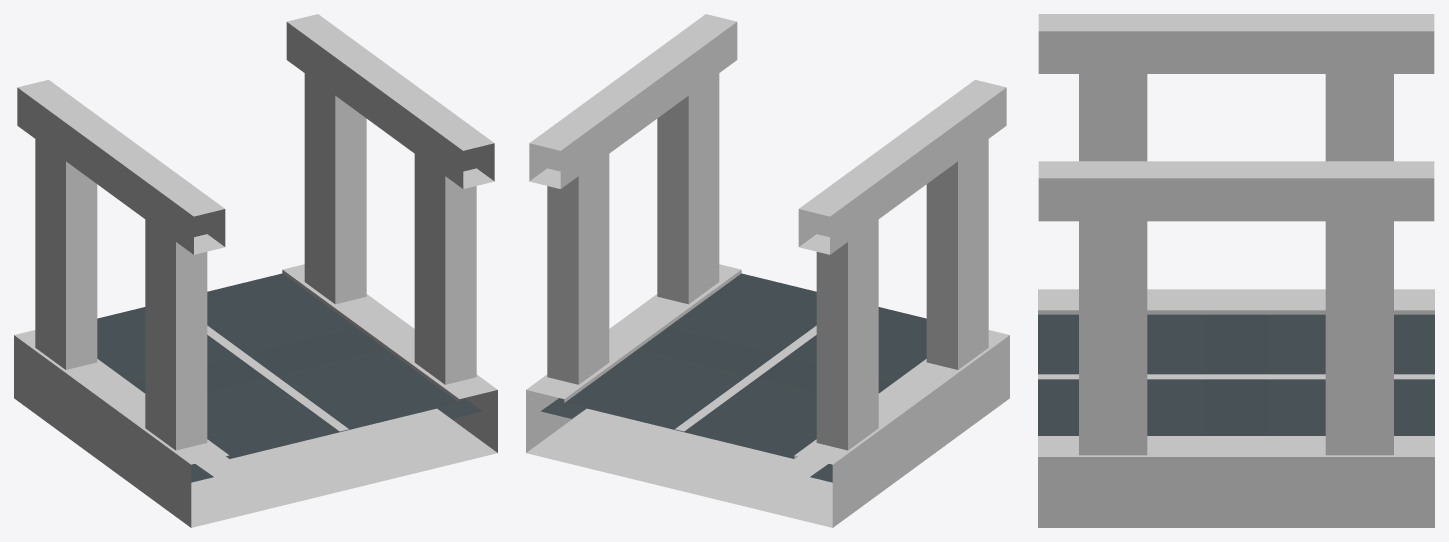
The model's file is tile_road_bridge_mid_1x1_b.fbx.
The picture shows the model from 3 angles, left to right: view 1: azimuth 30°, elevation 25°; view 2: azimuth 150°, elevation 25°; view 3: azimuth 270°, elevation 25°; orthographic projection. The views are drawn at different scales.
Parts seen in each view (by area): view 1: tile_road_bridge_mid_1x1_b; view 2: tile_road_bridge_mid_1x1_b; view 3: tile_road_bridge_mid_1x1_b.
Part boxes in pixels (<box>): tile_road_bridge_mid_1x1_b: <box>14,14,497,527</box>; tile_road_bridge_mid_1x1_b: <box>526,14,1009,527</box>; tile_road_bridge_mid_1x1_b: <box>1038,14,1434,527</box>.
Size of the model in its own units: 1600 by 1547 by 1600.
